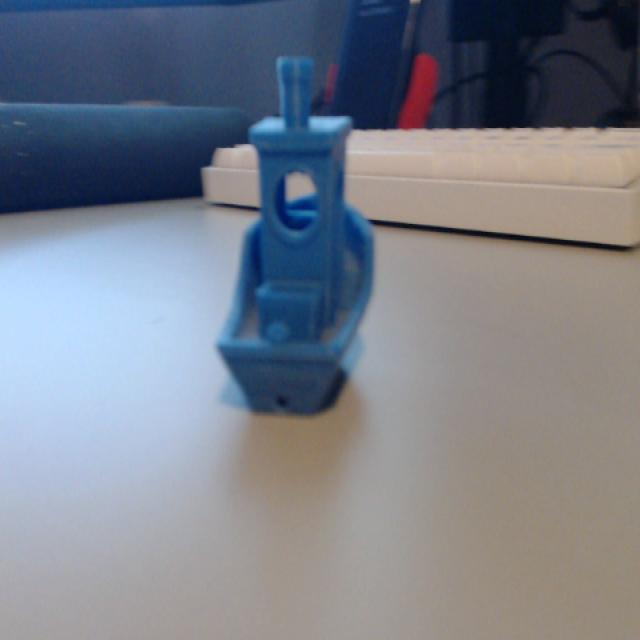benchy: (212, 52, 378, 417)
